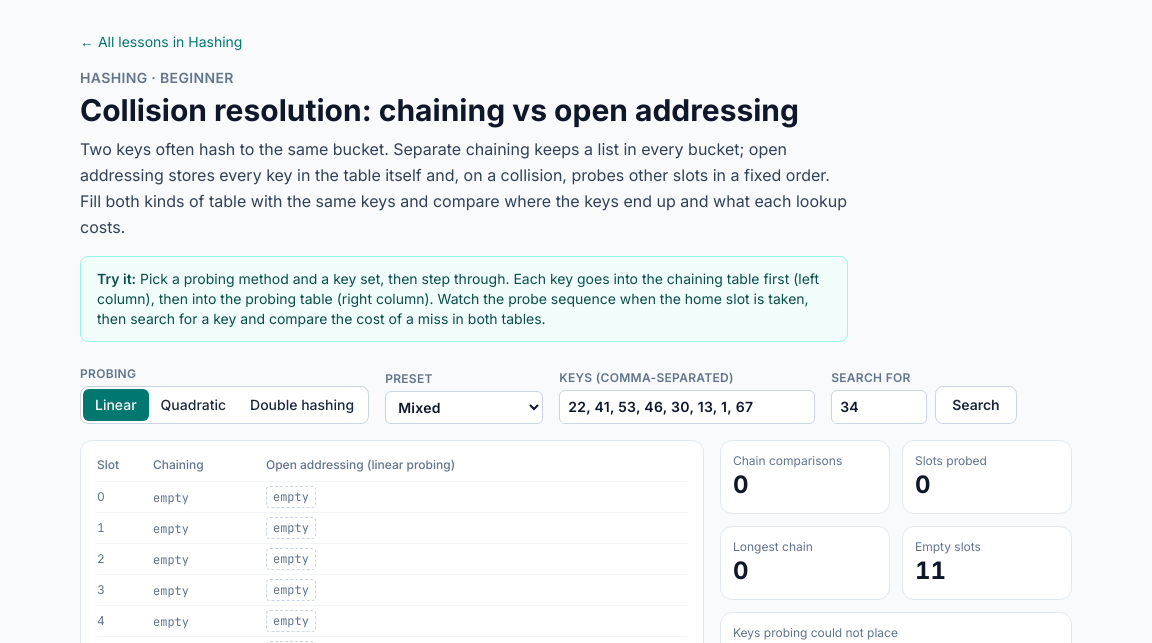
Test: collision resolution lesson › seeks to a search and charges a miss in both tables
This screenshot has width=1152, height=643.
Click the button "Search". click: (976, 405)
box: [935,386,1017,424]
(page scrolled)
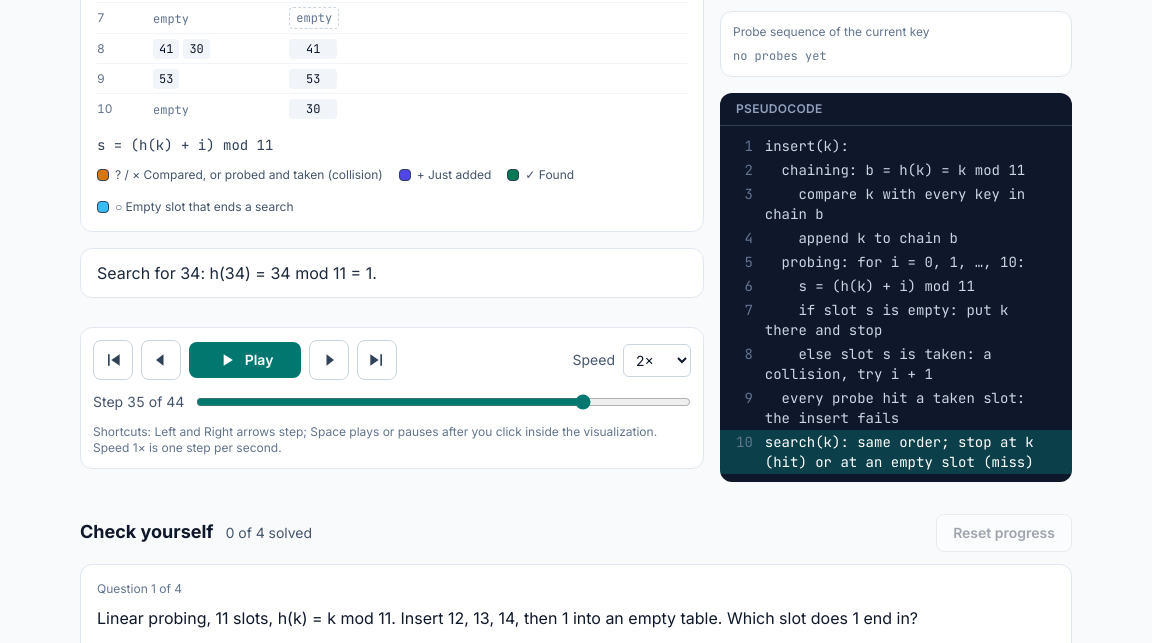
Now the text "Search for 34: h(34) = 34 mod 11 = 1." is shown, box [80,248,704,298]
Click the button named "Next step". click: (329, 360)
box: [309,340,349,380]
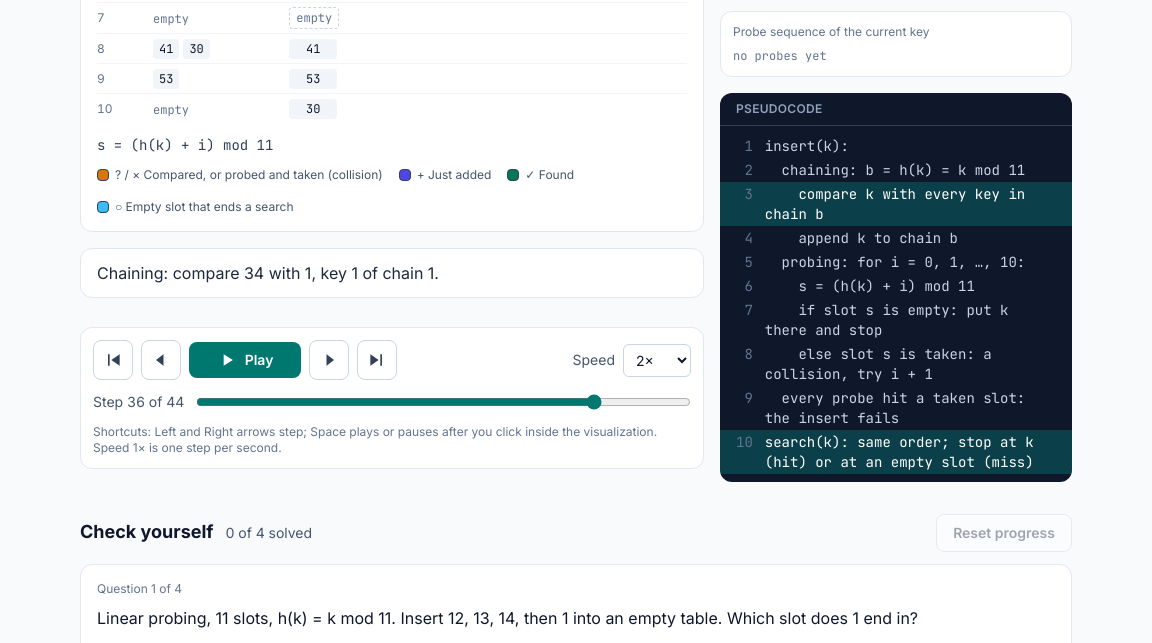
Click the button named "Next step". click: (329, 360)
box: [309,340,349,380]
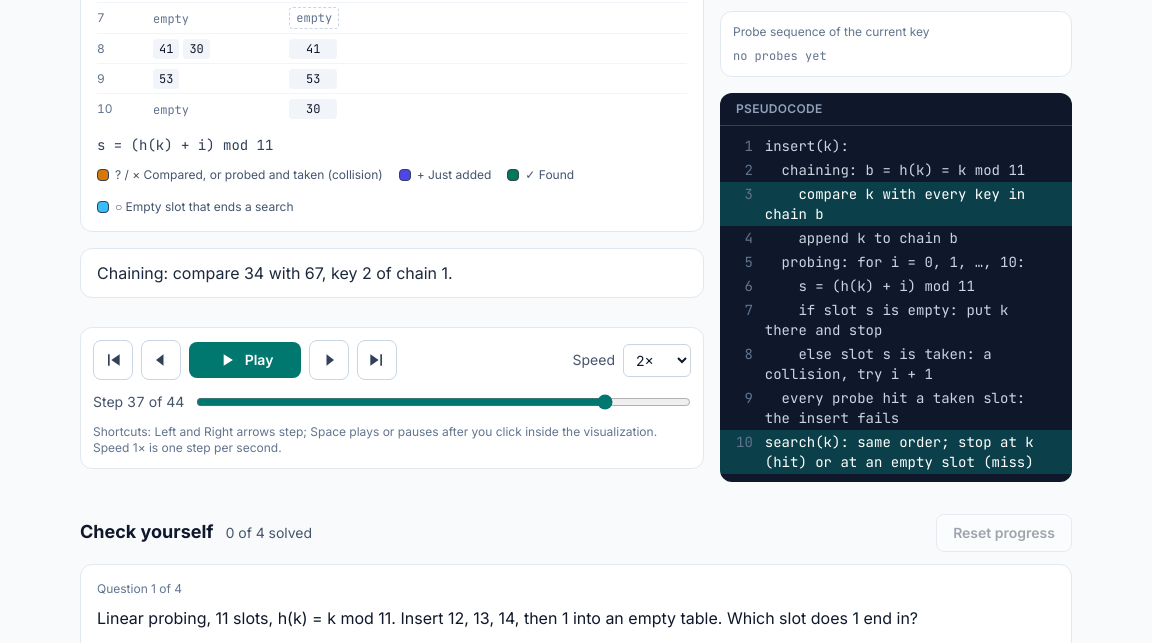
Click the button named "Next step". click: (329, 360)
box: [309,340,349,380]
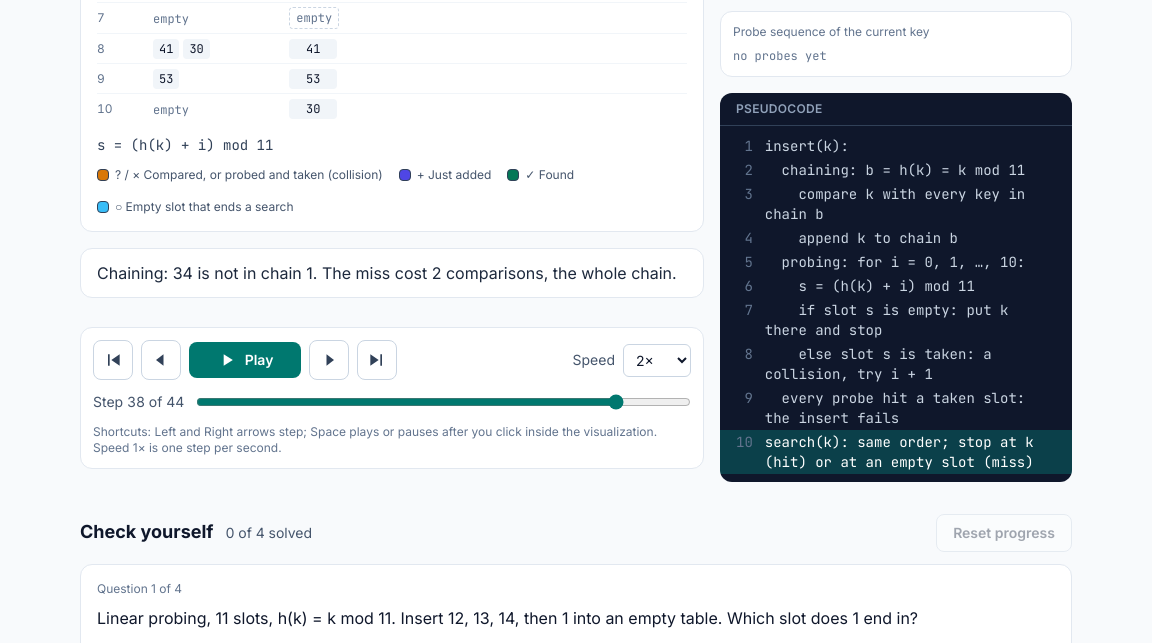
Now the text "Chaining: 34 is not in chain 1. The miss cost 2 comparisons, the whole chain." is shown, box [80,248,704,298]
Click the button named "Last step". click: (377, 360)
box: [357,340,397,380]
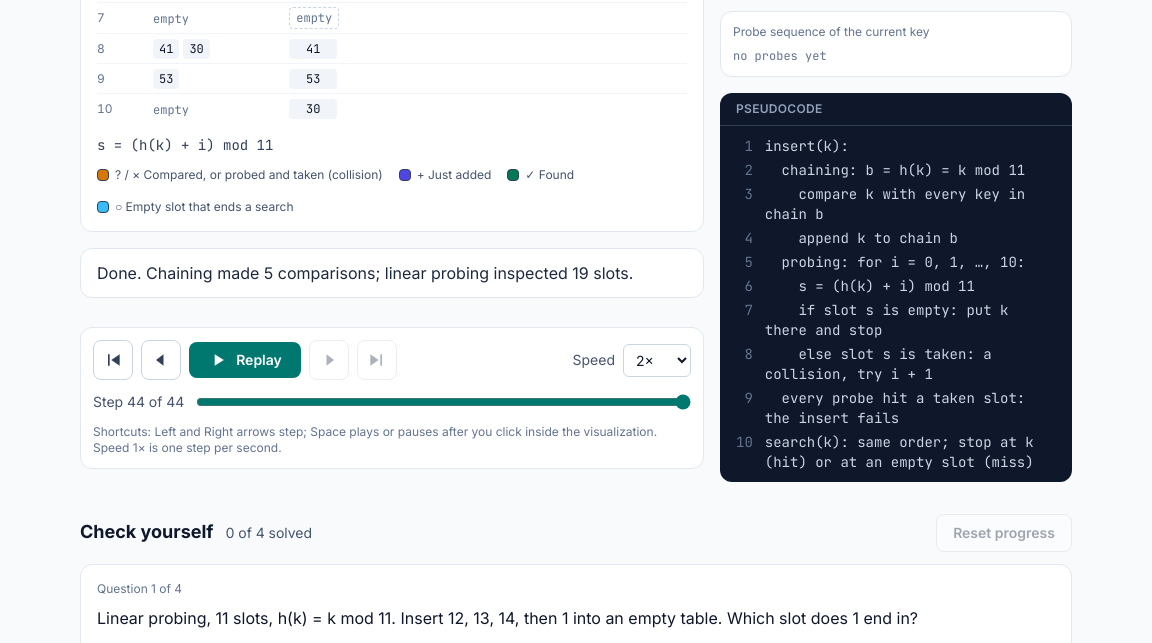
Click the button named "Previous step". click: (161, 360)
box: [141,340,181,380]
(page scrolled)
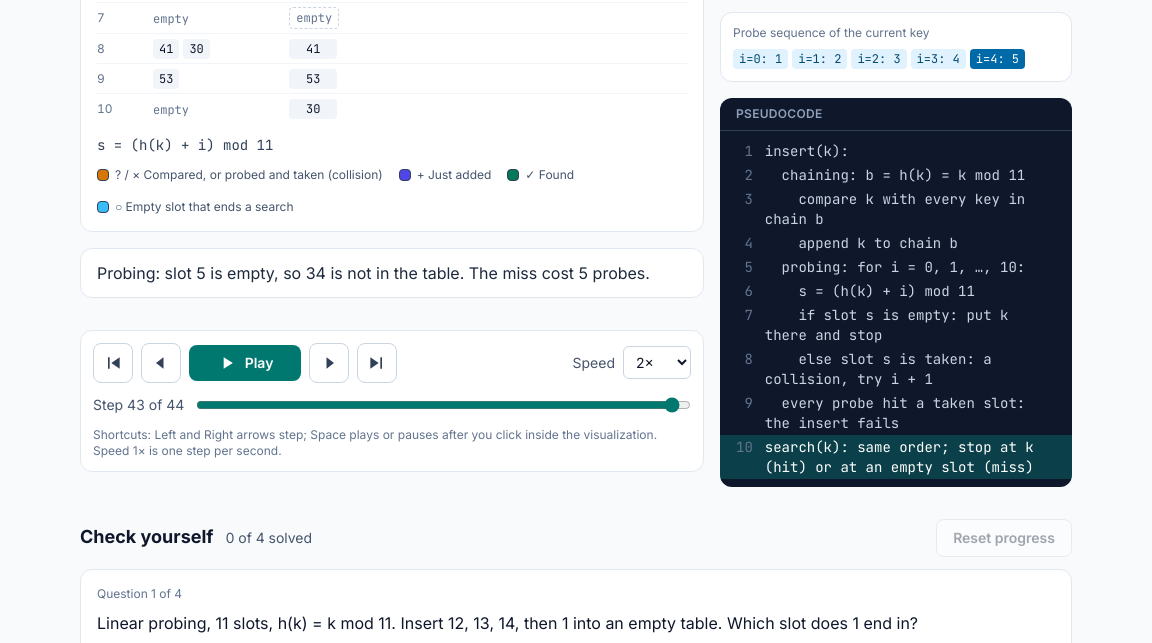
Now the text "Probing: slot 5 is empty, so 34 is not in the table. The miss cost 5 probes." is shown, box [80,248,704,298]
